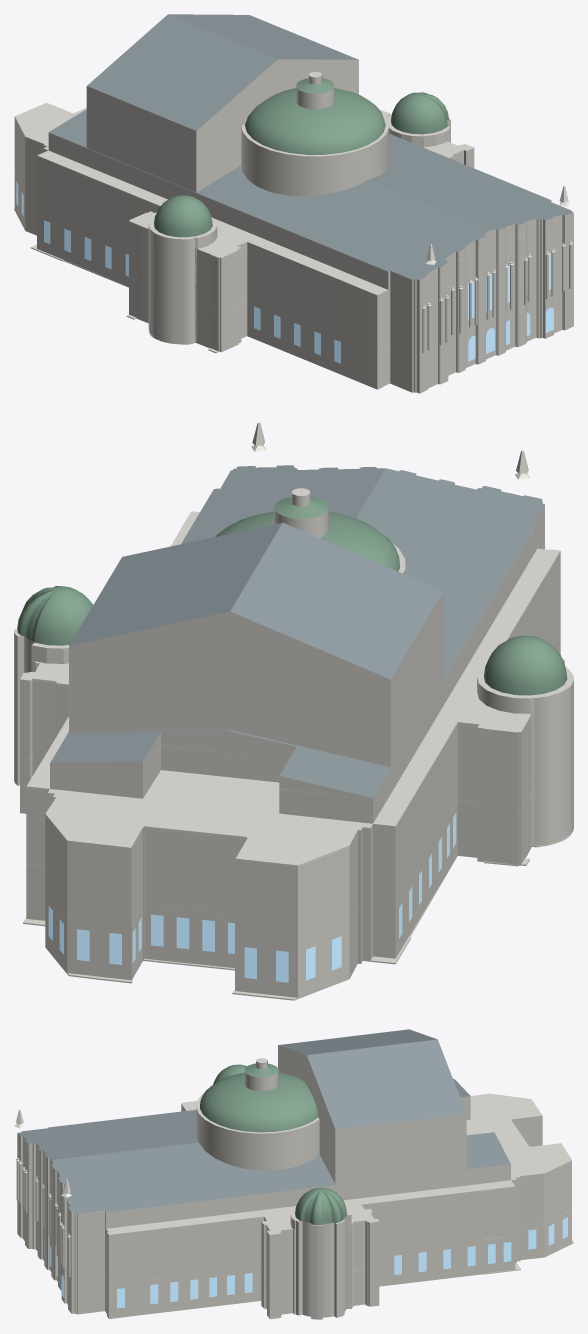
3 renders of one model, top to bottom at view 1: azimuth 30°, elevation 25°; view 2: azimuth 150°, elevation 25°; view 3: azimuth 270°, elevation 25°, orthographic. The views are drawn at different scales.
Visible parts, largest first — view 1: stone, roof, metal, window, trim; view 2: stone, roof, metal, window, trim; view 3: stone, roof, metal, window, trim.
Boxes of the visible parts, x1,y1,x2,y2 form: stone: [14, 59, 573, 393]; roof: [49, 14, 573, 280]; metal: [154, 78, 448, 237]; window: [16, 181, 553, 363]; trim: [14, 117, 573, 350]; stone: [14, 465, 573, 1000]; roof: [50, 465, 544, 797]; metal: [17, 496, 567, 695]; window: [48, 812, 456, 982]; trim: [26, 422, 564, 944]; stone: [16, 1045, 573, 1319]; roof: [18, 1029, 510, 1213]; metal: [200, 1063, 347, 1225]; window: [44, 1217, 567, 1308]; trim: [14, 1104, 571, 1284].
Size of the model in its own units: 98.16 by 58 by 157.
